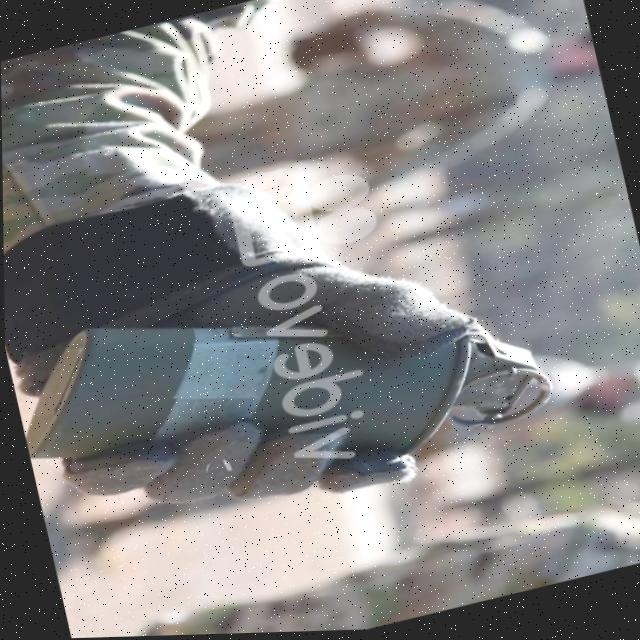grenade: (3, 229, 564, 555)
